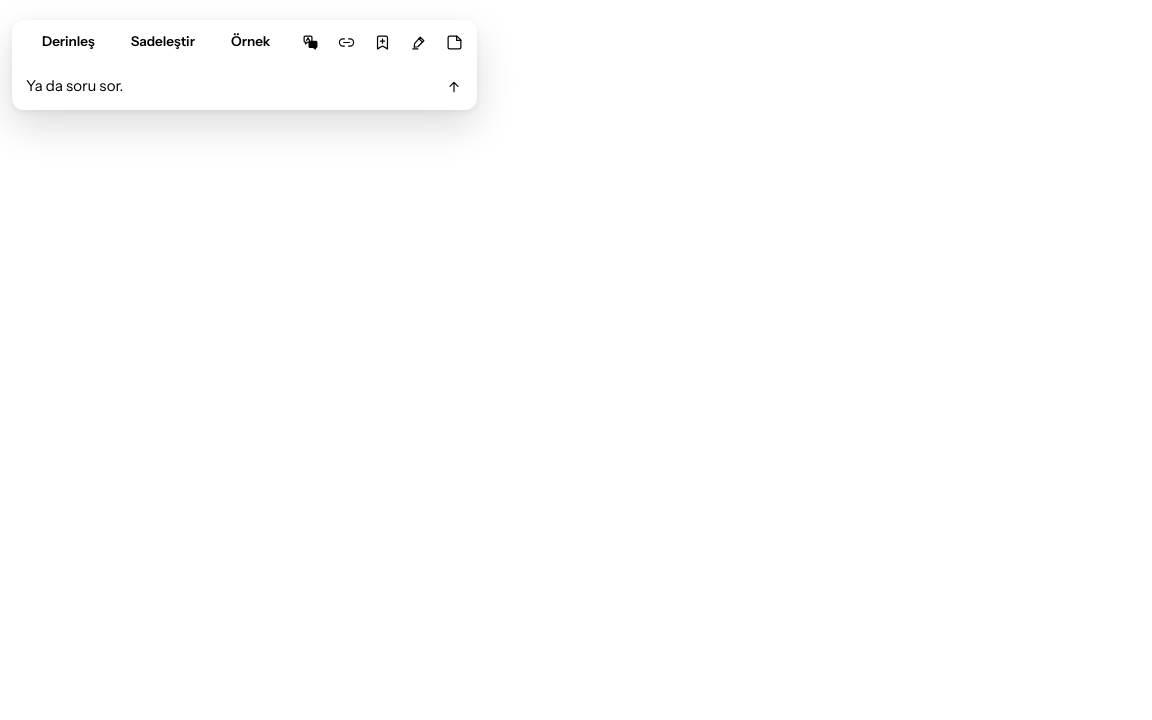
Test: Highlight colours › held for two seconds it offers the four colours, and the press is not also a click
Later steps or results of the test are not shown.
Press the mouse on the button with class "menu-highlight" at (418, 42), box [401,26,435,58]
Wait 2050 ms
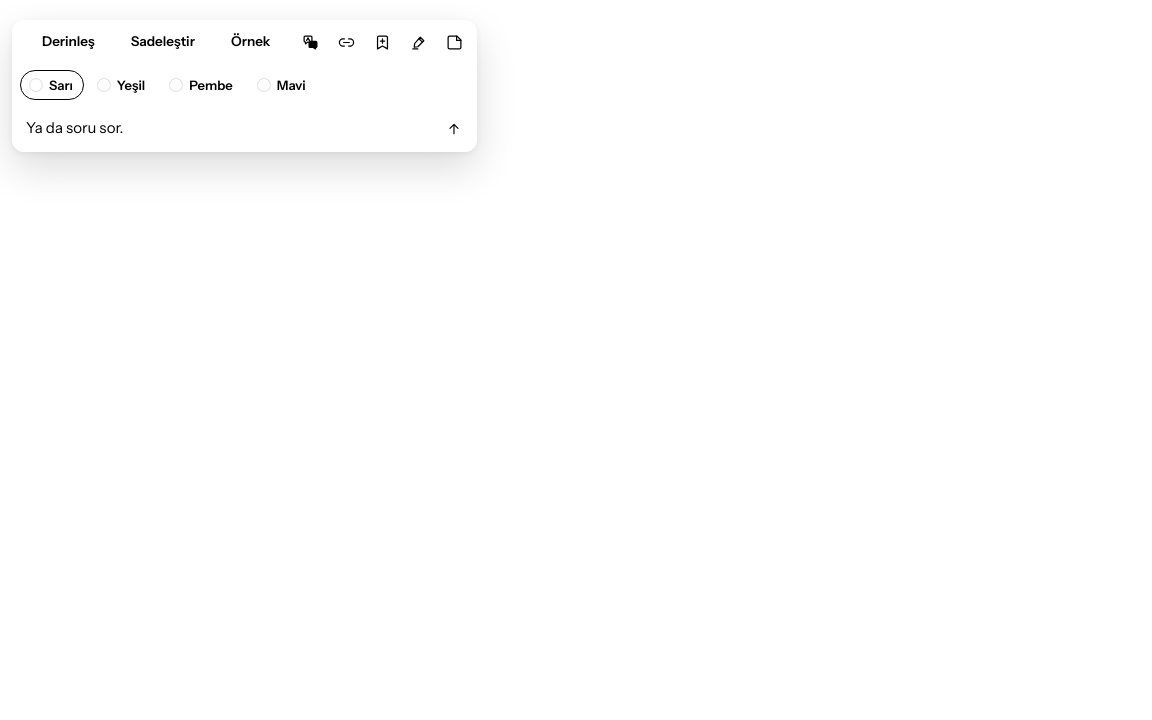
Click the button with class "menu-highlight".
click(418, 42)  # box [401,26,435,58]
Click the menu item with class "highlight-swatch" showing "Pembe".
click(202, 85)  # box [160,70,244,100]
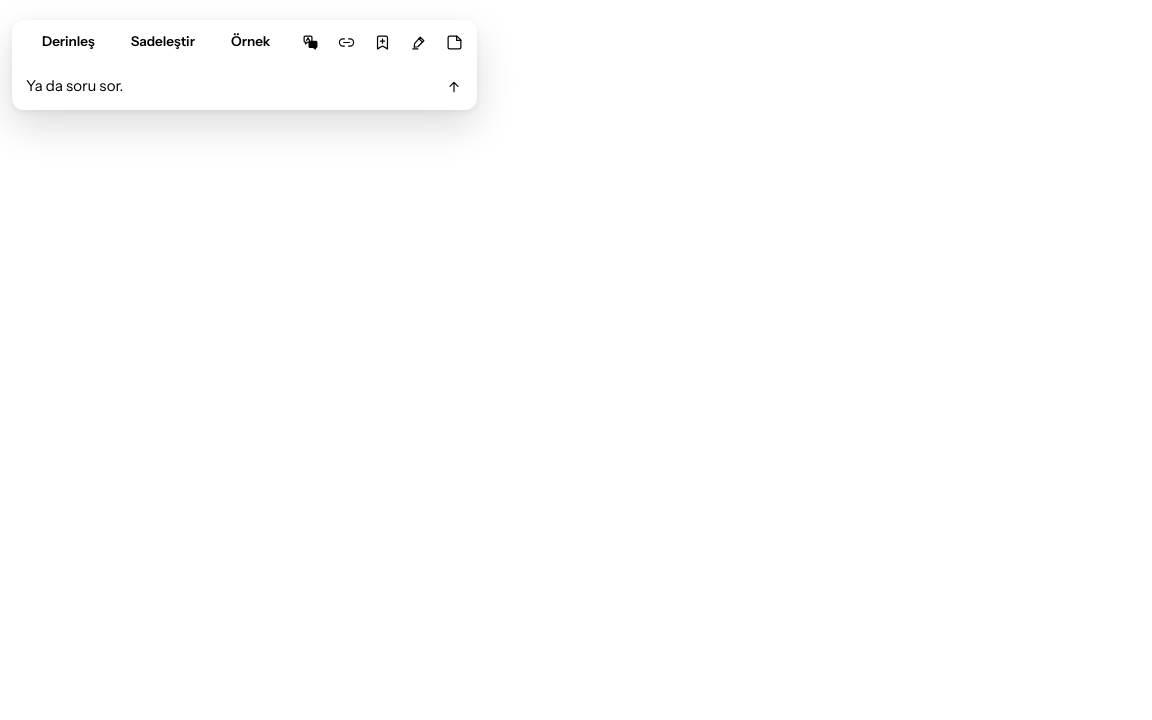
Expected: the menu with class "highlight-swatches" is gone
